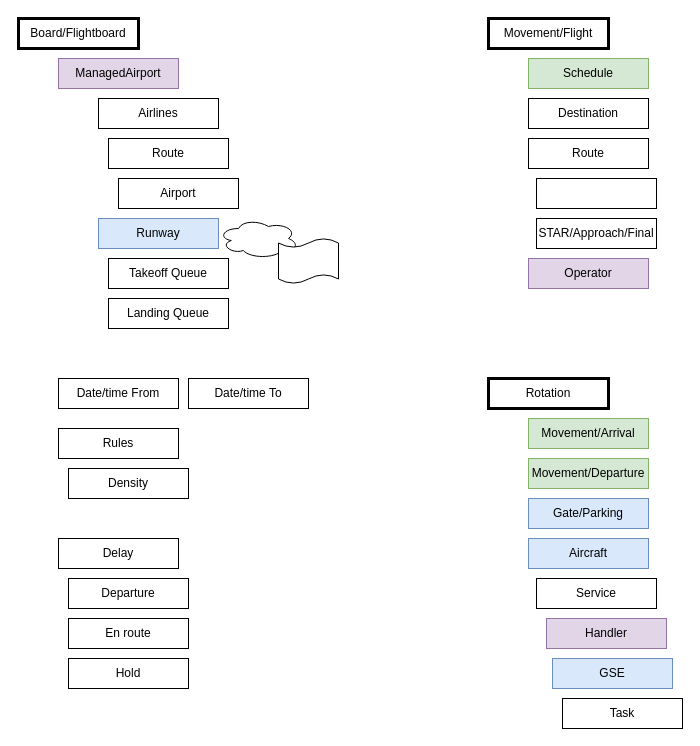
The diagram is 700 pixels wide and 746 high, and some of its shapes have lost their labels. Here are the shapes that lost their labels. From the top down, the box of each, then its label:
(536, 178, 656, 208): Initial climb/SID
(218, 218, 298, 258): slots
(278, 238, 338, 284): Queue
